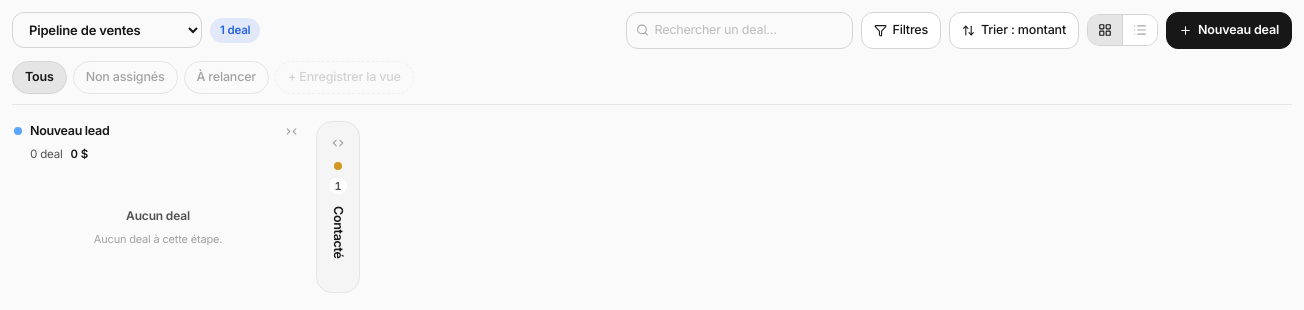
Test: colonnes repliables › le repli survit à un rechargement, et « Déplier » rouvre la colonne
The image size is (1304, 310).
Click the button named "Déplier la colonne « Contacté »" at {"x": 338, "y": 142}, box [327,132,349,154]
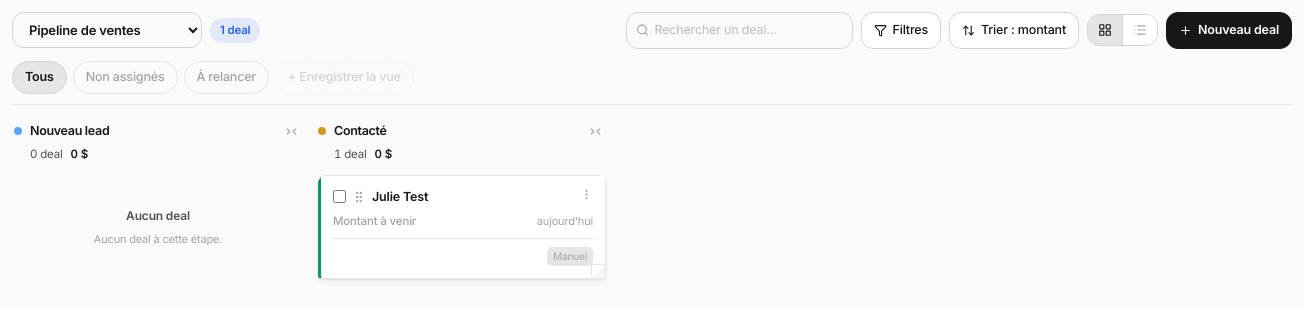
Check: the text "Julie Test" is shown, box [372,189,428,204]
